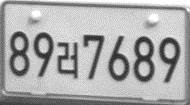6: (106, 34, 130, 82)
7: (82, 33, 105, 80)
8: (132, 35, 155, 82), (9, 30, 30, 76)
9: (158, 36, 182, 83), (31, 31, 54, 78)
러: (55, 40, 80, 80)
